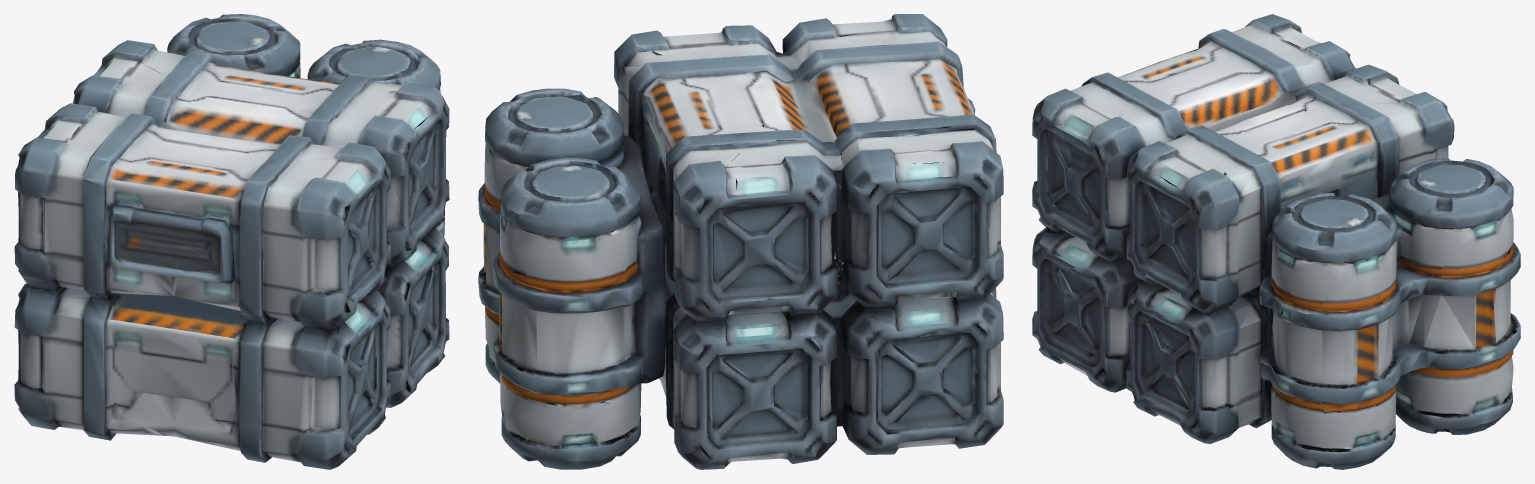
The picture shows the model from 3 angles, left to right: view 1: azimuth 30°, elevation 25°; view 2: azimuth 150°, elevation 25°; view 3: azimuth 270°, elevation 25°; orthographic projection. The views are drawn at different scales.
Parts seen in each view (by area): view 1: repaired; view 2: repaired; view 3: repaired.
Boxes of the visible parts, x1,y1,x2,y2 form: repaired: (14, 14, 449, 469); repaired: (478, 14, 1003, 469); repaired: (1032, 14, 1520, 469).
Size of the model in its own units: 0.999 by 0.5986 by 0.9995.
1 material, 1 textured.
